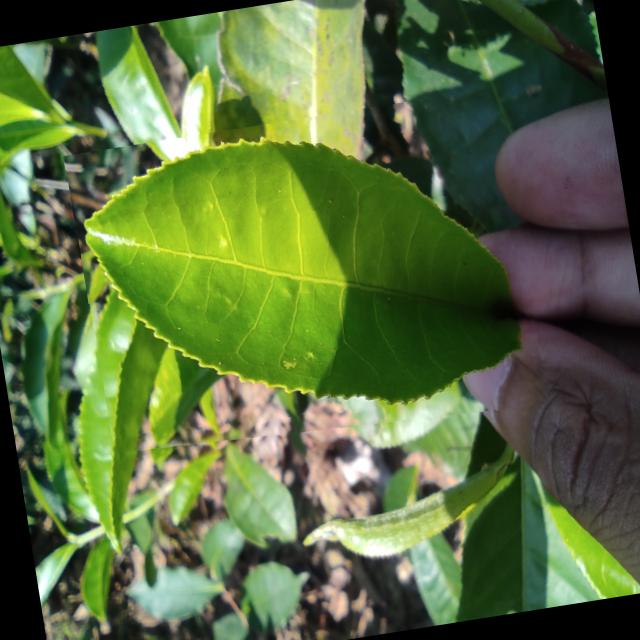Category C(4-7 days): (63, 88, 548, 474)
